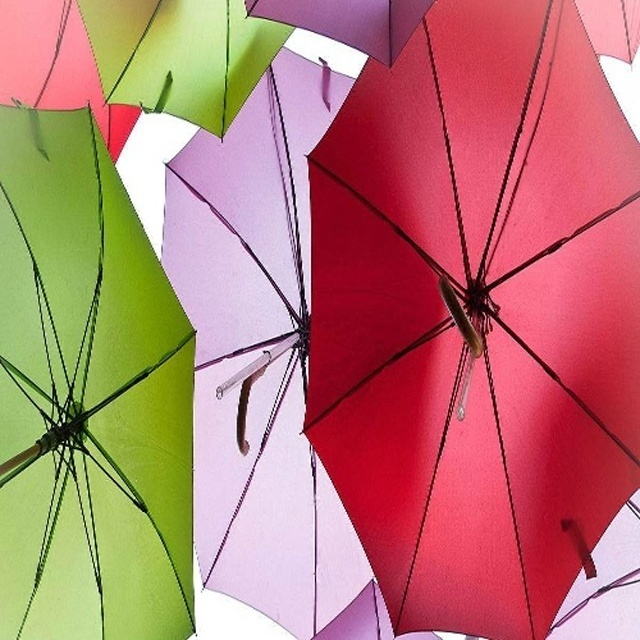umbrella: (306, 1, 640, 640), (159, 37, 411, 640), (1, 95, 199, 640), (77, 1, 307, 142)
